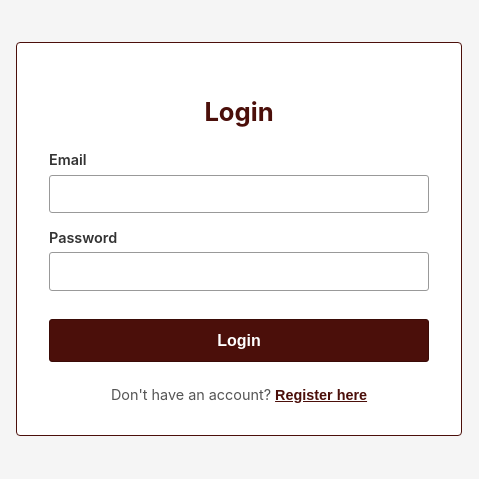
Test case: AccountPage › displays error message on failed login
The width and height of the screenshot is (479, 479).
In the field labelled "Email": (239, 194) [49, 175, 429, 213], type "wrong@test.com"
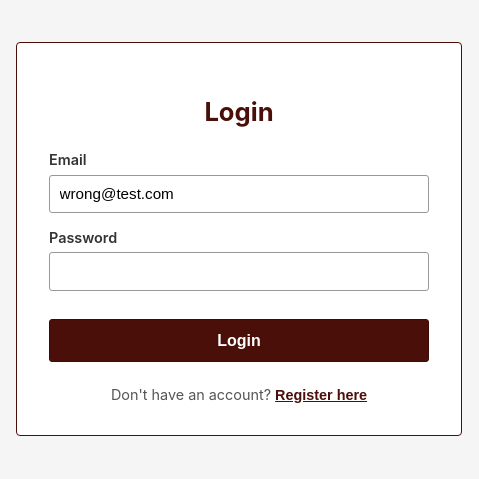
In the password field labelled "Password": (239, 272) [49, 252, 429, 291], type "wrongpassword"
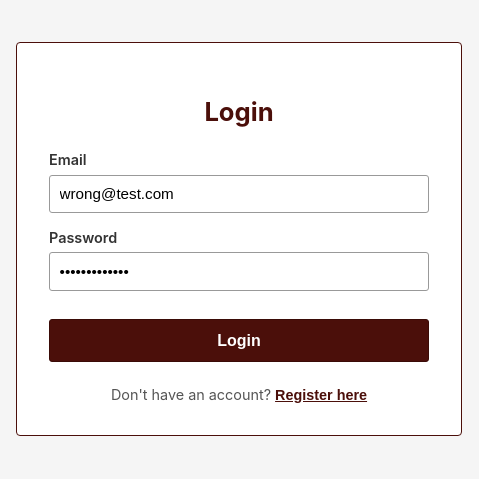
Click the button "Login": (239, 341) [49, 319, 429, 362]
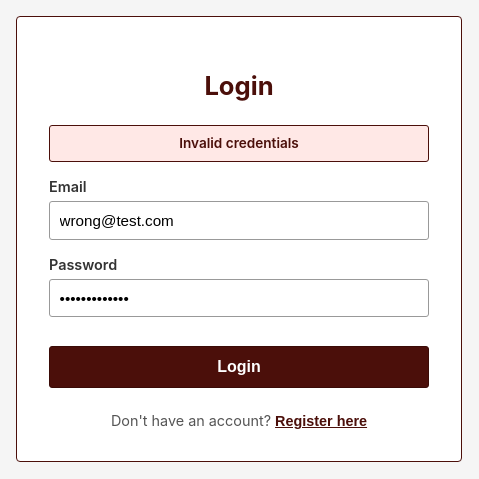
Result: the text "Invalid credentials" is shown at [49, 125, 429, 162]
